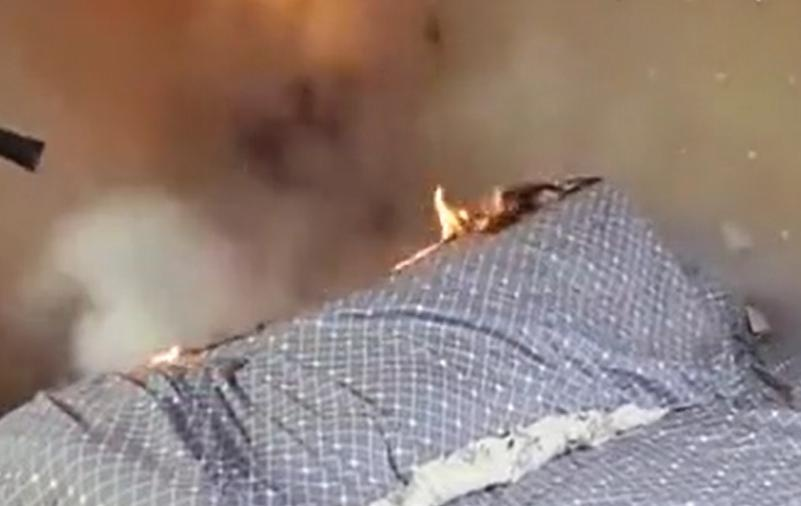fire: (418, 179, 515, 240)
